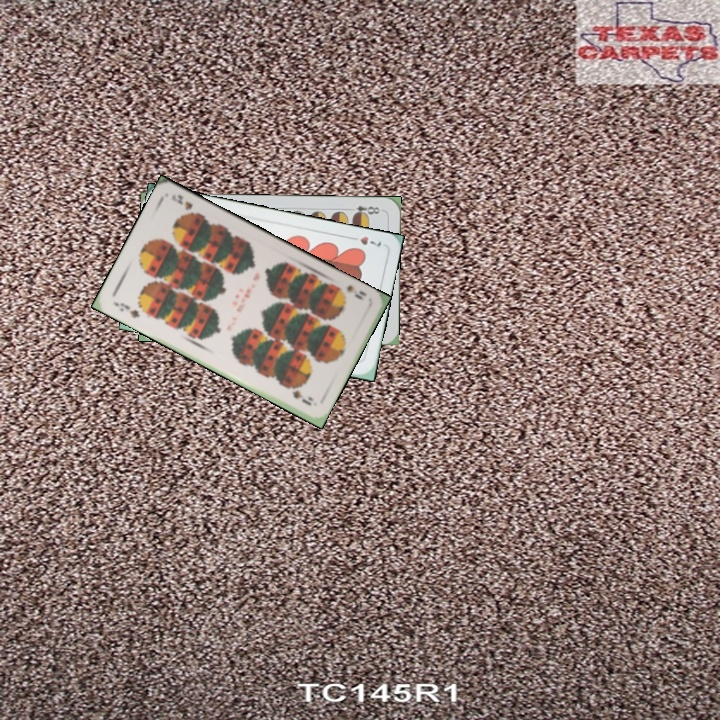E8: (344, 202, 384, 219)
H7: (345, 232, 384, 249)
S9: (115, 298, 142, 320), (341, 281, 369, 302)
